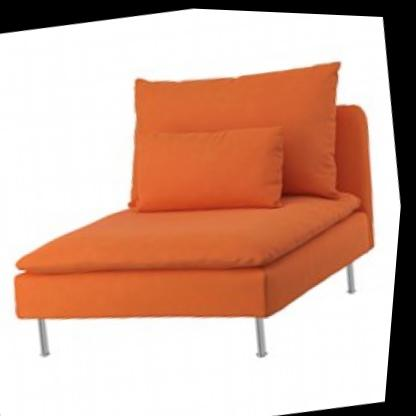Sofa: (0, 10, 415, 401)
